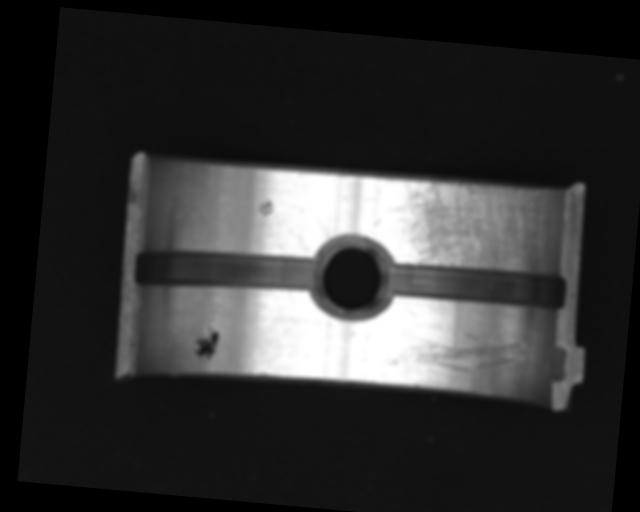blot: (190, 325, 220, 363)
bruise: (255, 196, 276, 217)
gap: (131, 242, 322, 298), (382, 257, 568, 314)
hole: (307, 235, 398, 324)
nick: (385, 324, 521, 379), (304, 206, 334, 240)
scratch: (368, 172, 559, 278)
